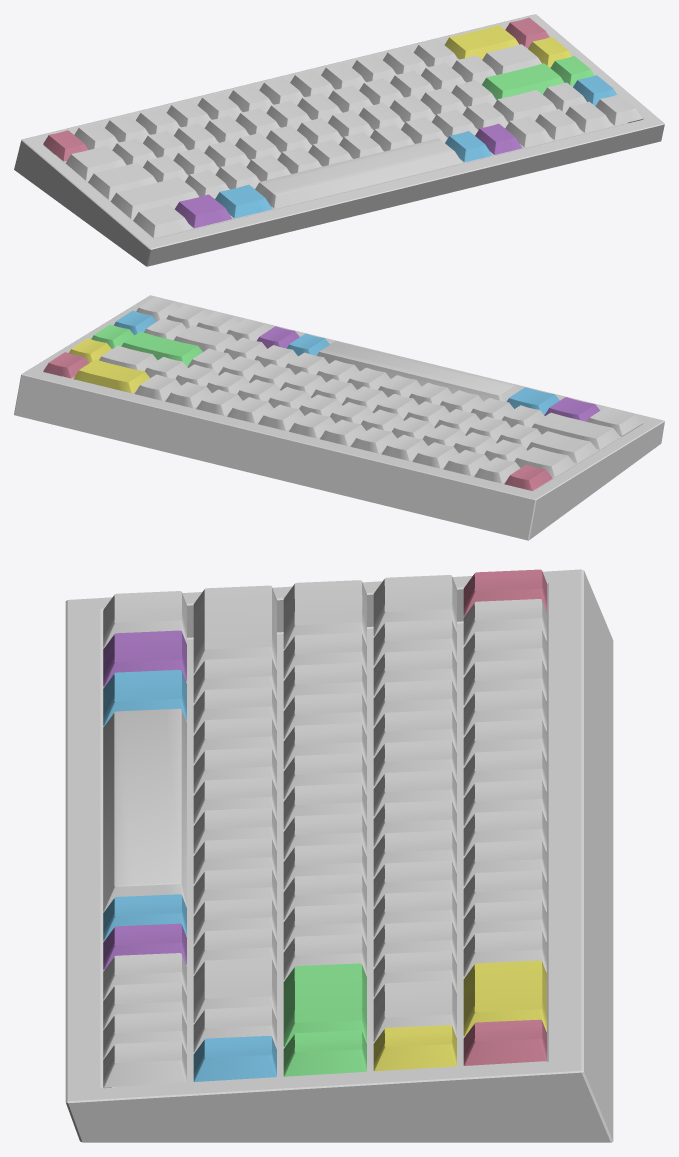
3 views of the same model, one above another, from view 1: azimuth 30°, elevation 25°; view 2: azimuth 150°, elevation 25°; view 3: azimuth 270°, elevation 25° (orthographic). The views are drawn at different scales.
Visible parts, largest first — view 1: NK.65; view 2: NK.65; view 3: NK.65.
Boxes of the visible parts, left/top/right/bottom form: NK.65: left=14, top=14, right=664, bottom=266; NK.65: left=14, top=295, right=664, bottom=540; NK.65: left=65, top=569, right=613, bottom=1142.
Size of the model in its own units: 0.5 by 0.0432 by 0.23.
